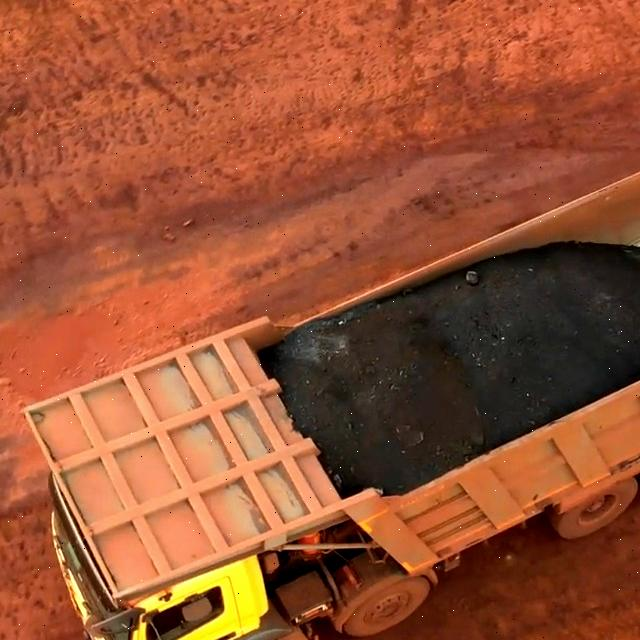Dumper truck: (53, 350, 283, 640)
